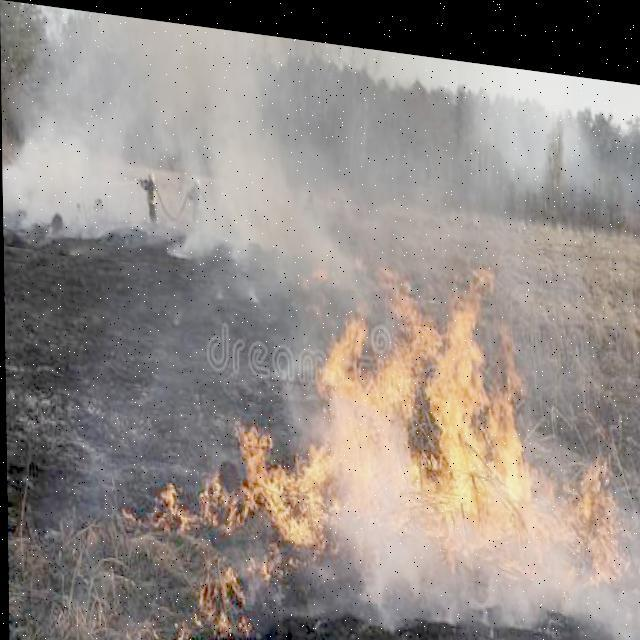Fire: (142, 229, 627, 639)
